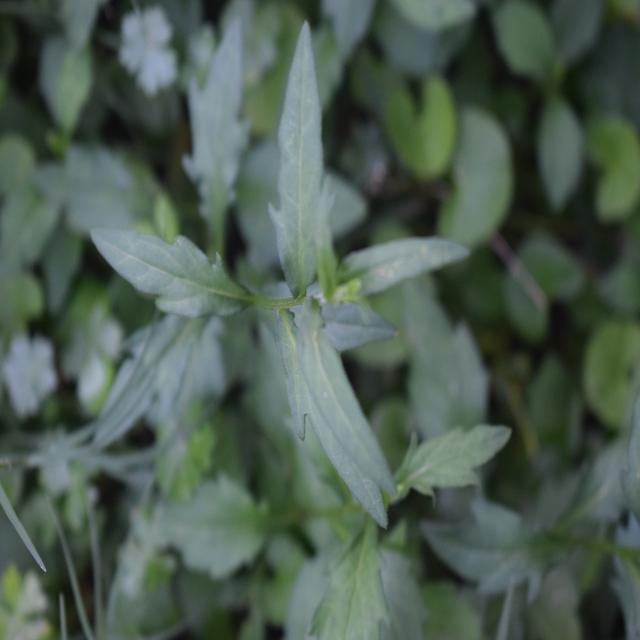Indian aster: (103, 76, 452, 580)
